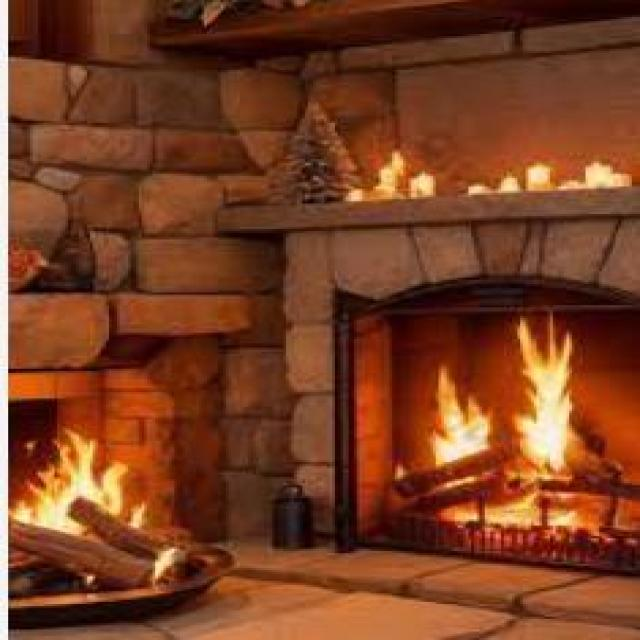Fire_Save: (384, 307, 632, 545)
